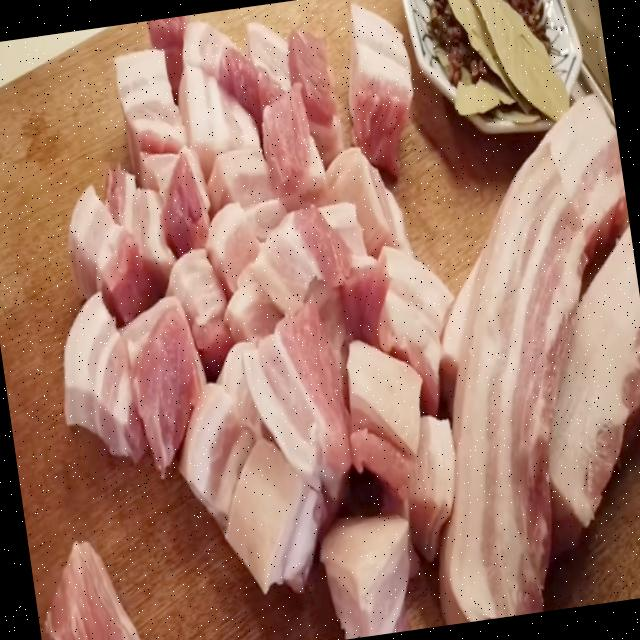meat: (449, 94, 624, 618), (553, 233, 640, 529), (237, 309, 346, 482), (368, 242, 455, 404), (63, 293, 147, 459), (130, 301, 203, 469), (253, 206, 358, 321), (322, 505, 412, 639), (180, 377, 258, 523), (70, 193, 155, 323), (349, 9, 413, 175), (210, 156, 290, 282), (47, 552, 134, 640), (104, 162, 175, 269), (290, 34, 346, 157), (117, 54, 181, 149), (185, 68, 260, 147), (160, 153, 213, 250), (269, 114, 328, 184), (147, 16, 186, 92)
